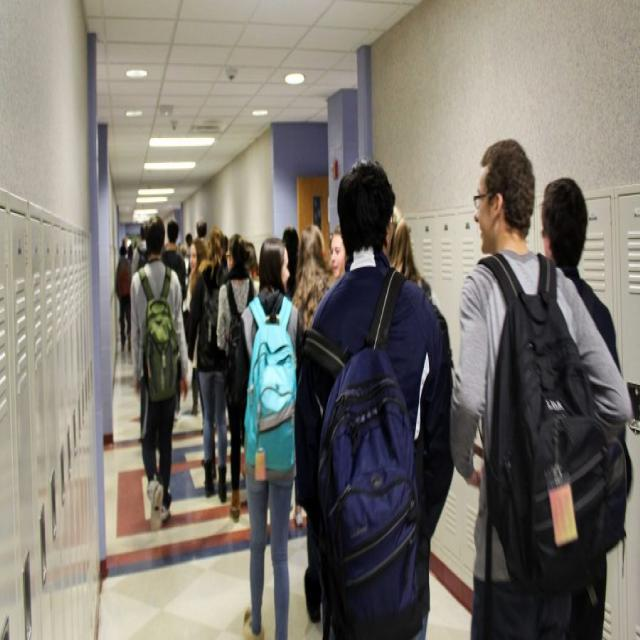Backpacks: (488, 293, 612, 594), (310, 347, 426, 640), (245, 321, 298, 472), (143, 290, 180, 404)
